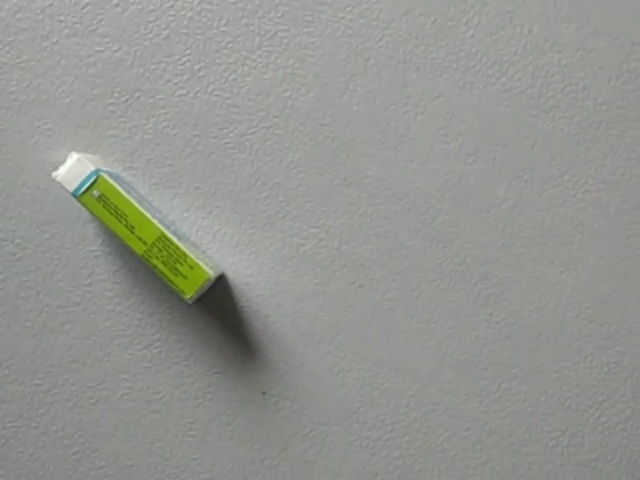Eraser: (47, 145, 228, 309)
